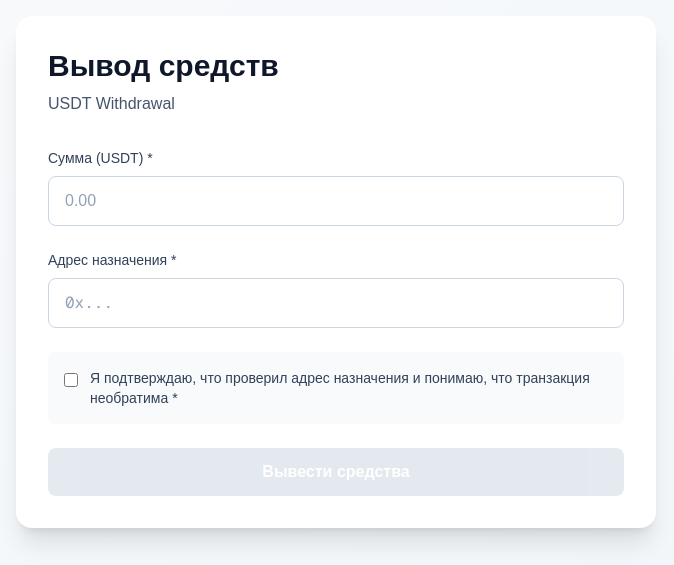
Test: WithdrawPage › should reset form after successful submission
Type "100" into the number field with placeholder "0.00" at (336, 201), box [48, 176, 624, 226]
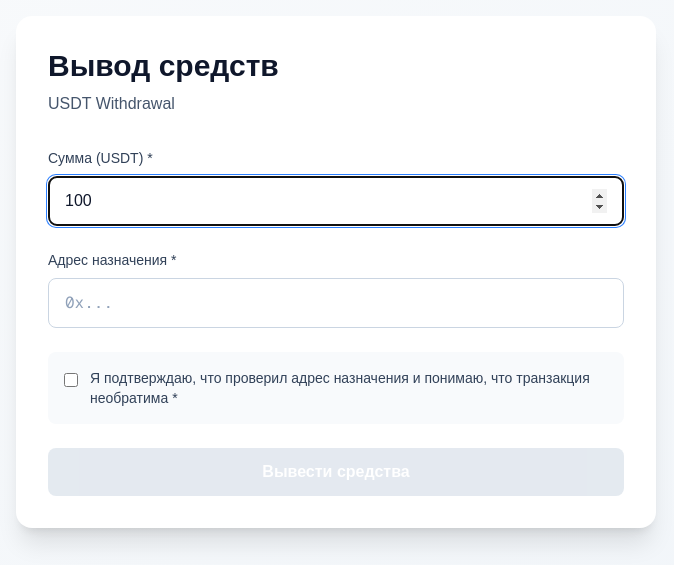
Type "0x1234567890abcdef" into the field with placeholder "0x..." at (336, 303), box [48, 278, 624, 328]
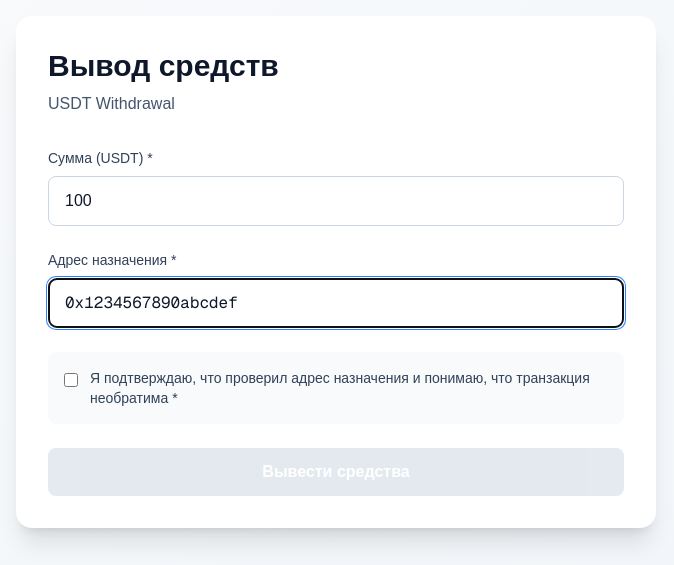
Click the checkbox at (71, 380), box [64, 372, 78, 388]
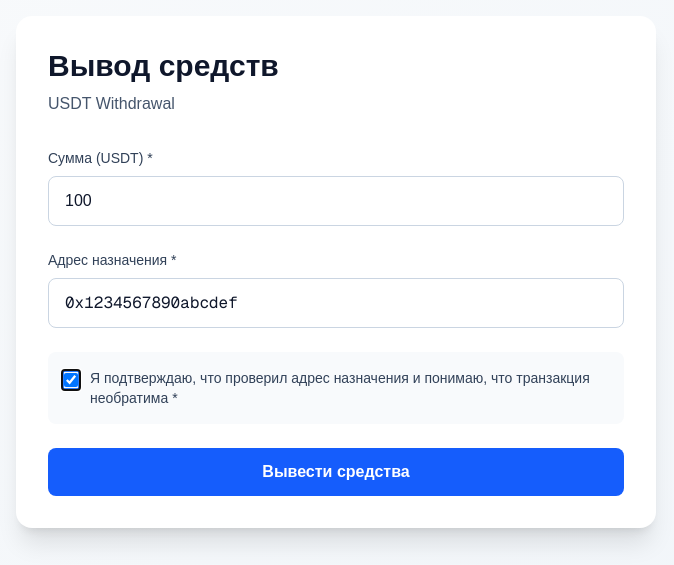
Click the button "Вывести средства" at (336, 472), box [48, 448, 624, 496]
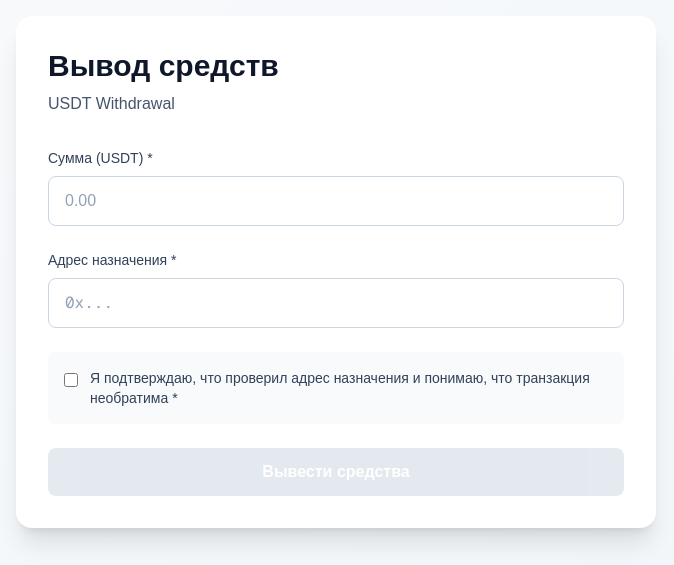
Expected: the checkbox is not checked, [64, 372, 78, 388]
Expected: the number field with placeholder "0.00" is empty, [48, 176, 624, 226]
Expected: the field with placeholder "0x..." is empty, [48, 278, 624, 328]
